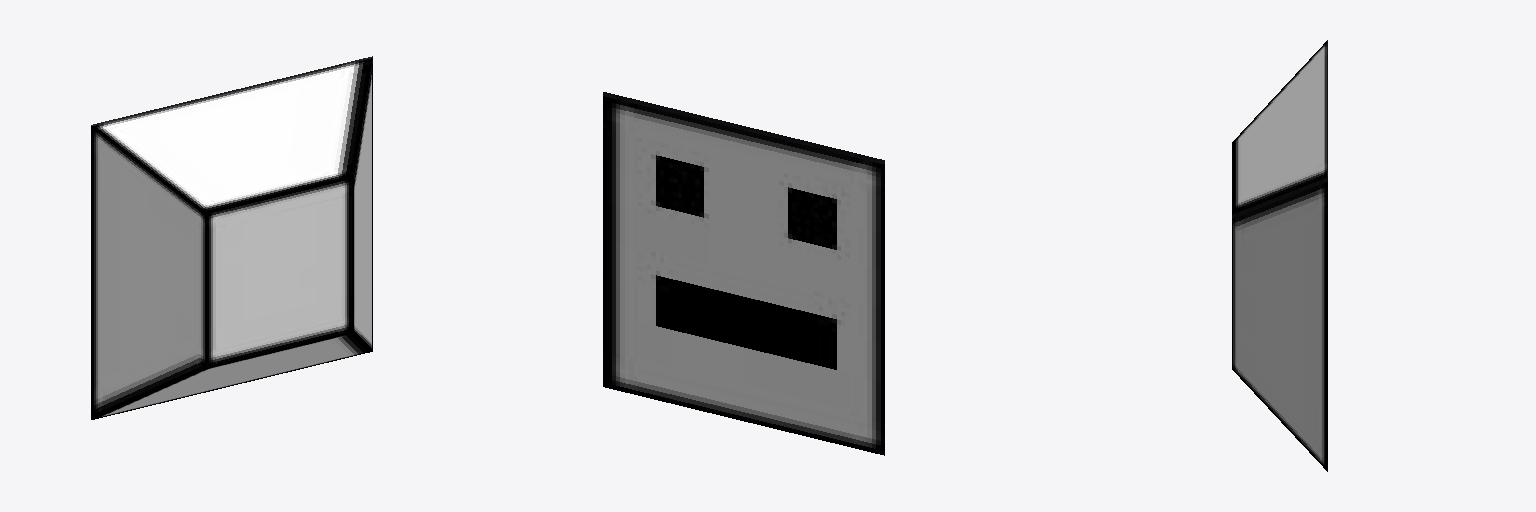
The picture shows the model from 3 angles: view 1: azimuth 30°, elevation 25°; view 2: azimuth 150°, elevation 25°; view 3: azimuth 270°, elevation 25°; orthographic projection.
Parts seen in each view (by area): view 1: Cube; view 2: Cube; view 3: Cube.
Part boxes in pixels (bbox=[...]): Cube: bbox=[91, 56, 372, 419]; Cube: bbox=[603, 92, 884, 455]; Cube: bbox=[1232, 40, 1327, 471].
Size of the model in its own units: 1.12 by 1.12 by 0.3314.
Materials: 1 (1 with a texture image).